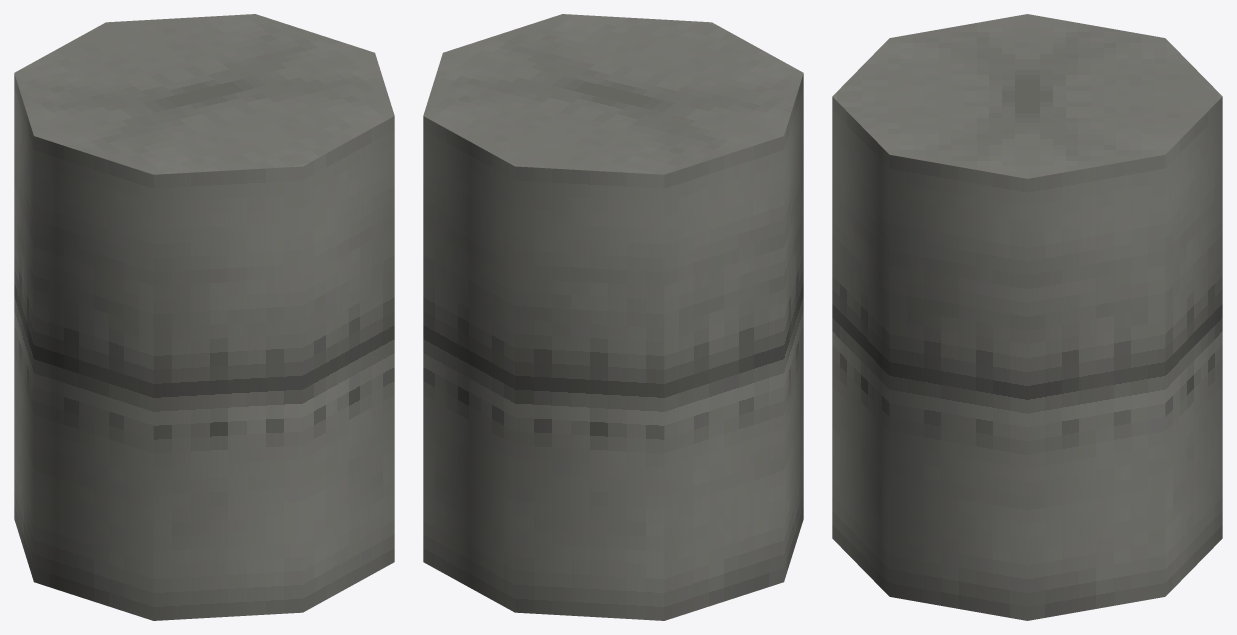
The model's file is Pipe1.glb.
The picture shows the model from 3 angles, left to right: view 1: azimuth 30°, elevation 25°; view 2: azimuth 150°, elevation 25°; view 3: azimuth 270°, elevation 25°; orthographic projection.
Parts seen in each view (by area): view 1: Cylinder.016; view 2: Cylinder.016; view 3: Cylinder.016.
Part boxes in pixels (box(x1,y1,x2,y2)): Cylinder.016: box(14, 14, 394, 620); Cylinder.016: box(423, 14, 803, 620); Cylinder.016: box(832, 14, 1222, 620).
Size of the model in its own units: 3.2 by 4 by 3.2.
1 material, 1 textured.
